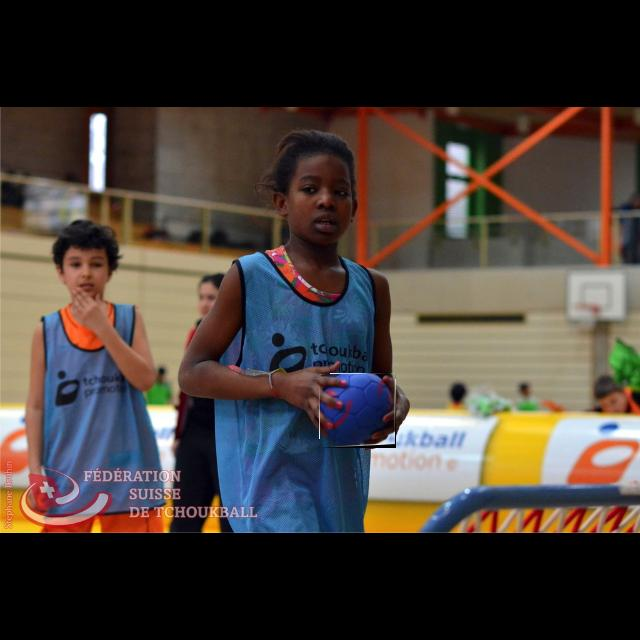Football: (320, 374, 396, 448)
